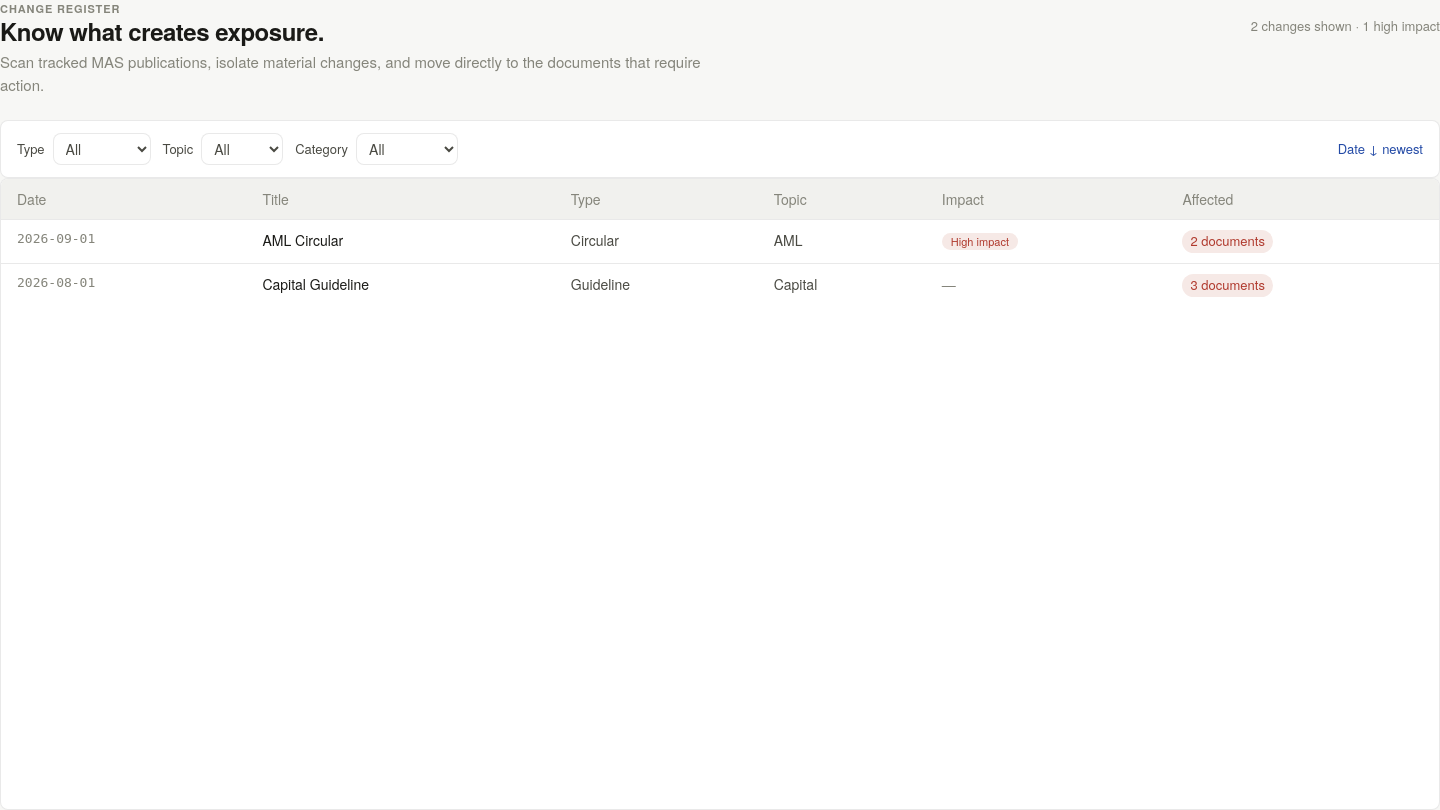
Test: renders persisted suggestions for an opened regulatory document
The width and height of the screenshot is (1440, 810).
Click the button with aria-label "View impact for AML Circular": (1228, 242) [1182, 230, 1273, 253]
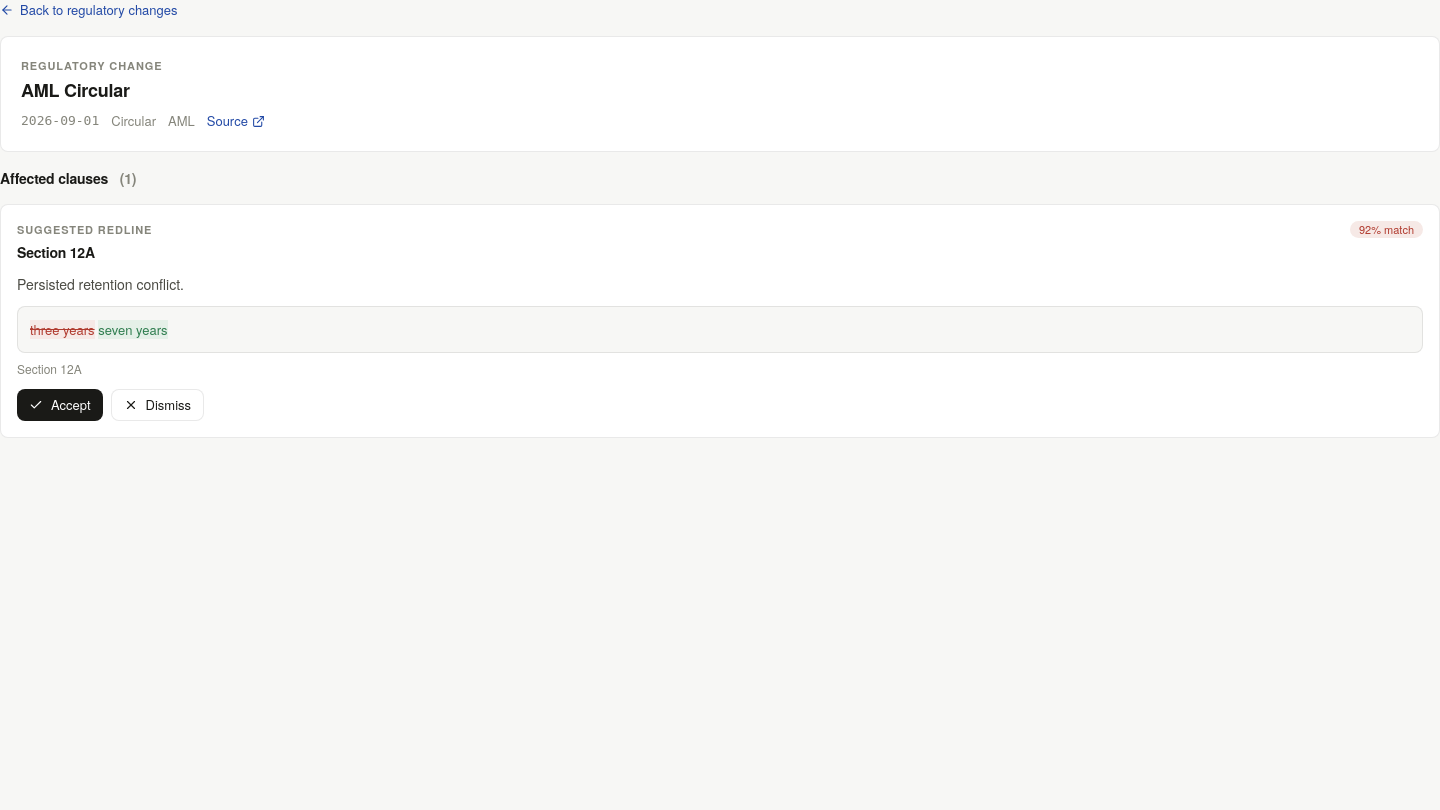
expect the text "Persisted retention conflict." is shown: met, box [17, 274, 184, 294]
